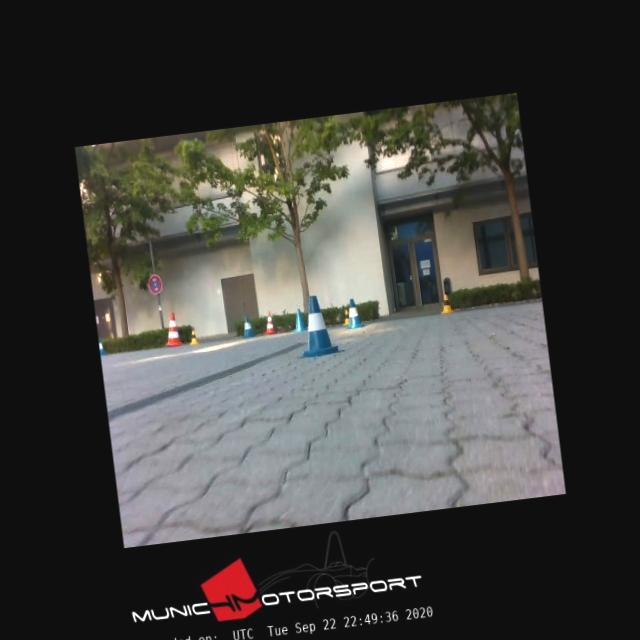blue_cone: (296, 293, 338, 356), (342, 298, 363, 328), (242, 316, 255, 338), (98, 336, 106, 354)
large_orange_cone: (163, 310, 182, 346), (263, 311, 275, 334)
yellow_cone: (439, 294, 453, 314), (188, 328, 199, 344), (342, 308, 350, 326)
